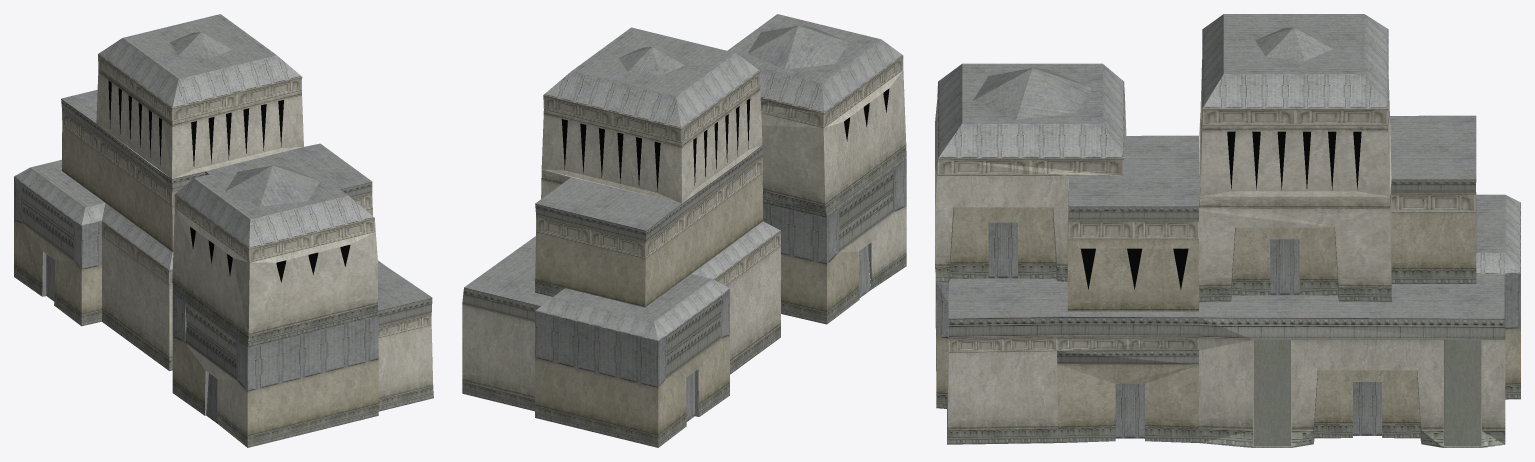
Rendered from thm_corl_imprv_historic_32x16_s02_l2.fbx.
3 renders of one model, left to right at view 1: azimuth 30°, elevation 25°; view 2: azimuth 150°, elevation 25°; view 3: azimuth 270°, elevation 25°, orthographic. The views are drawn at different scales.
Visible parts, largest first — view 1: mesh_node; view 2: mesh_node; view 3: mesh_node.
Boxes of the visible parts, x1,y1,x2,y2 form: mesh_node: (14,14,433,447); mesh_node: (462,14,906,447); mesh_node: (935,14,1520,447).
Size of the model in its own units: 14.76 by 20.6 by 30.39.
